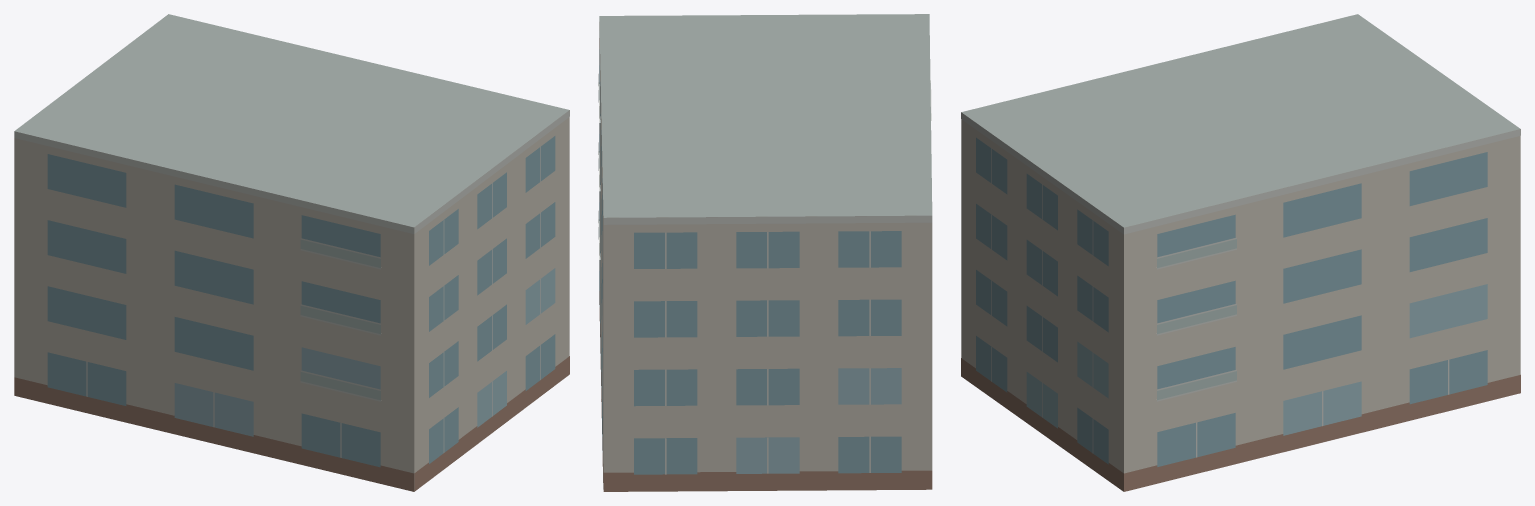
Rendered from survey-upis-32917156.glb.
The picture shows the model from 3 angles, left to right: view 1: azimuth 30°, elevation 25°; view 2: azimuth 150°, elevation 25°; view 3: azimuth 270°, elevation 25°; orthographic projection. The views are drawn at different scales.
Parts seen in each view (by area): view 1: survey-upis-32917156.tmp; view 2: survey-upis-32917156.tmp; view 3: survey-upis-32917156.tmp.
Boxes of the visible parts, left/top/right/bottom form: survey-upis-32917156.tmp: left=14, top=14, right=569, bottom=491; survey-upis-32917156.tmp: left=598, top=14, right=932, bottom=491; survey-upis-32917156.tmp: left=961, top=14, right=1520, bottom=491.
Size of the model in its own units: 16.49 by 9.5 by 18.25.
